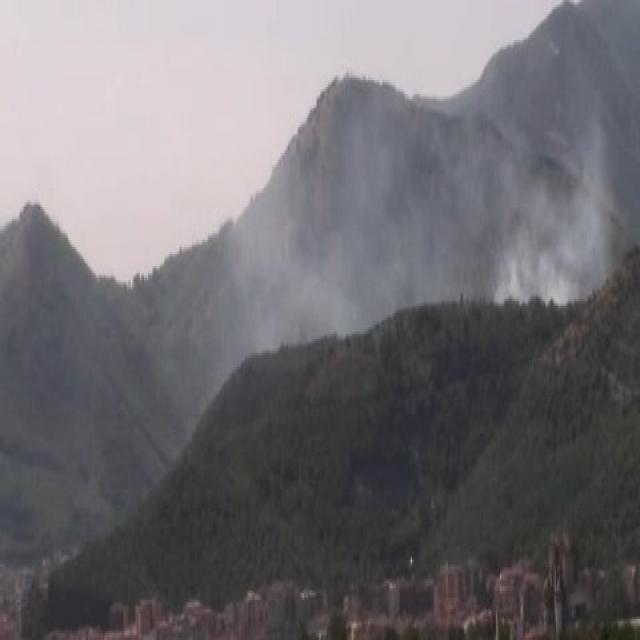smoke: (259, 124, 405, 311)
